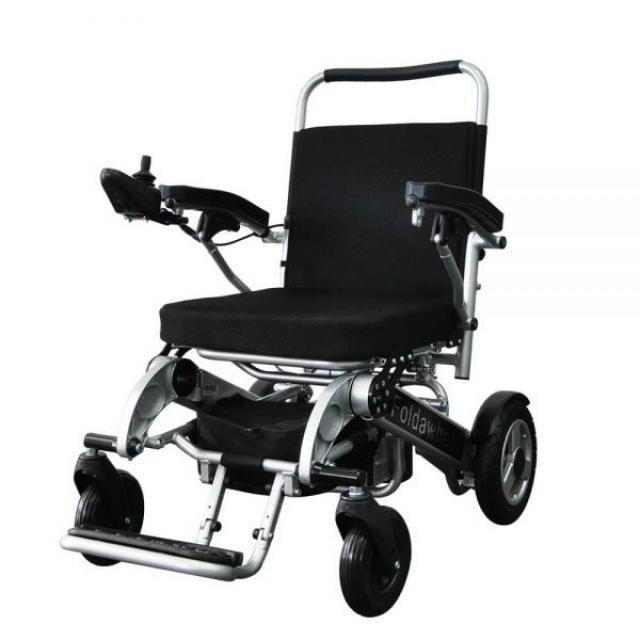wheelchair: (58, 41, 552, 625)
